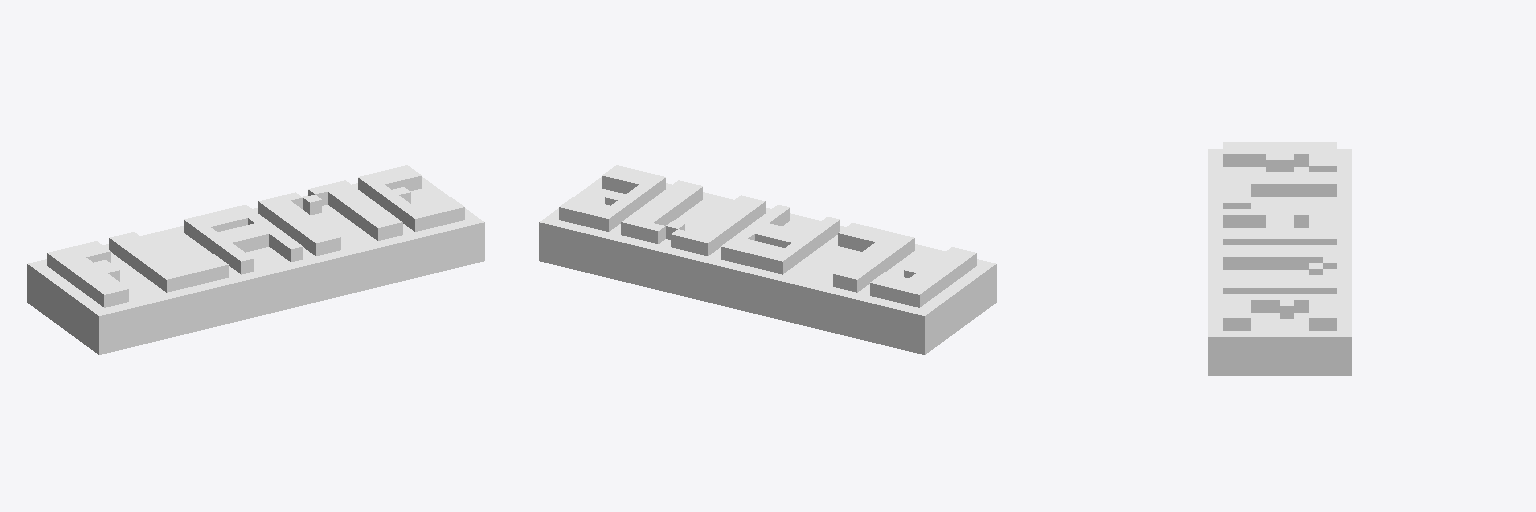
File: flame.obj
3 renders of one model, left to right at view 1: azimuth 30°, elevation 25°; view 2: azimuth 150°, elevation 25°; view 3: azimuth 270°, elevation 25°, orthographic.
Visible parts, largest first — view 1: object 1; view 2: object 1; view 3: object 1.
Boxes of the visible parts, <box> form: object 1: <box>27,165,484,354</box>; object 1: <box>539,165,996,354</box>; object 1: <box>1208,142,1351,375</box>.
Size of the model in its own units: 3.1 by 0.4 by 1.